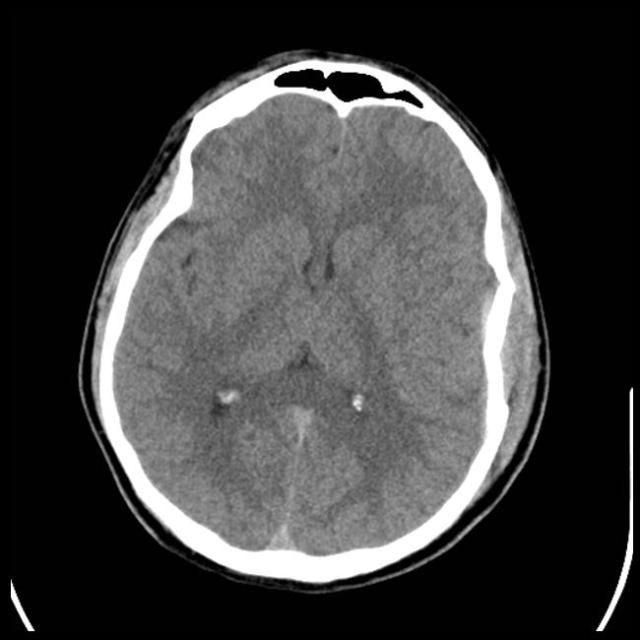lesion: (81, 52, 547, 586)
